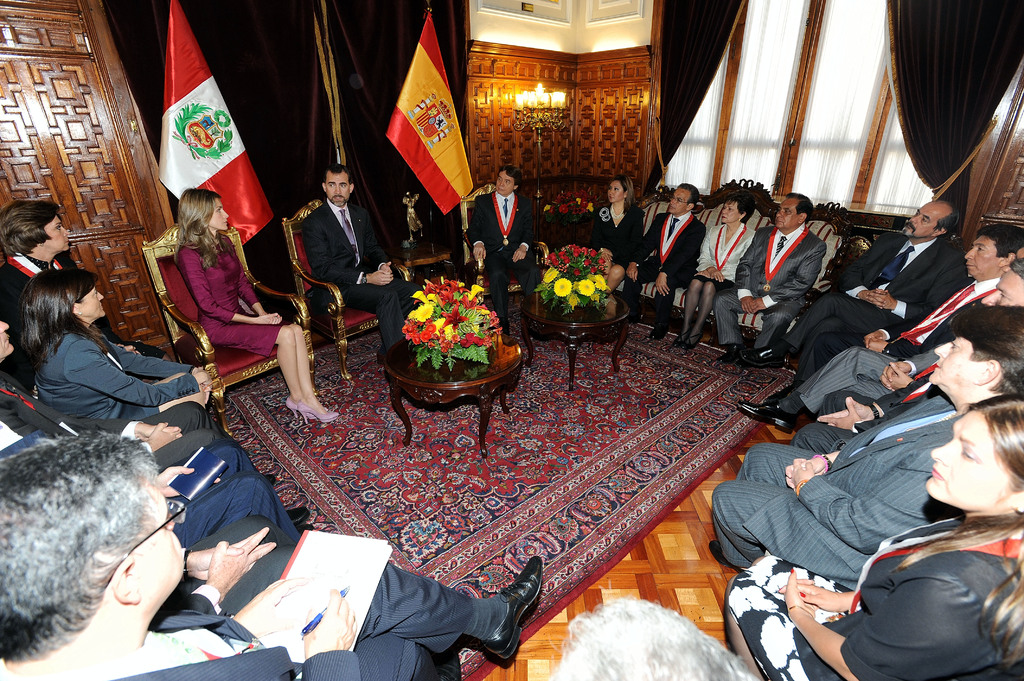Footwear: (477, 550, 545, 671), (737, 399, 797, 432), (736, 342, 790, 369), (290, 400, 340, 429), (426, 645, 461, 680), (709, 537, 743, 572), (284, 401, 316, 419), (284, 503, 308, 521), (651, 323, 676, 339), (681, 332, 703, 349), (673, 332, 692, 348), (298, 521, 317, 533), (719, 349, 733, 364), (531, 331, 550, 340), (264, 474, 276, 487), (630, 310, 641, 324)
